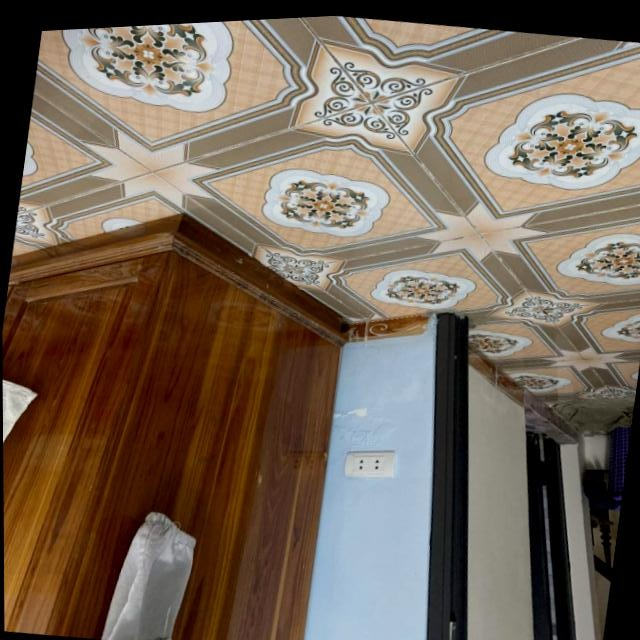outlet: (343, 444, 398, 484)
